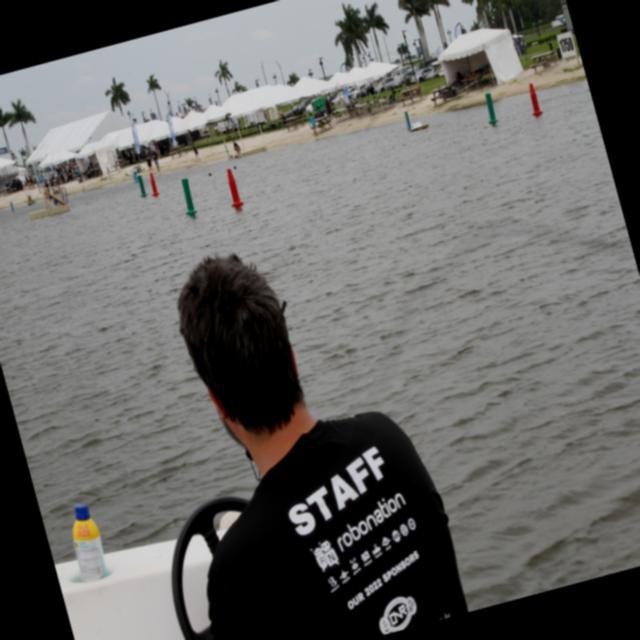buoy: (232, 162, 237, 170), (208, 171, 211, 175)
